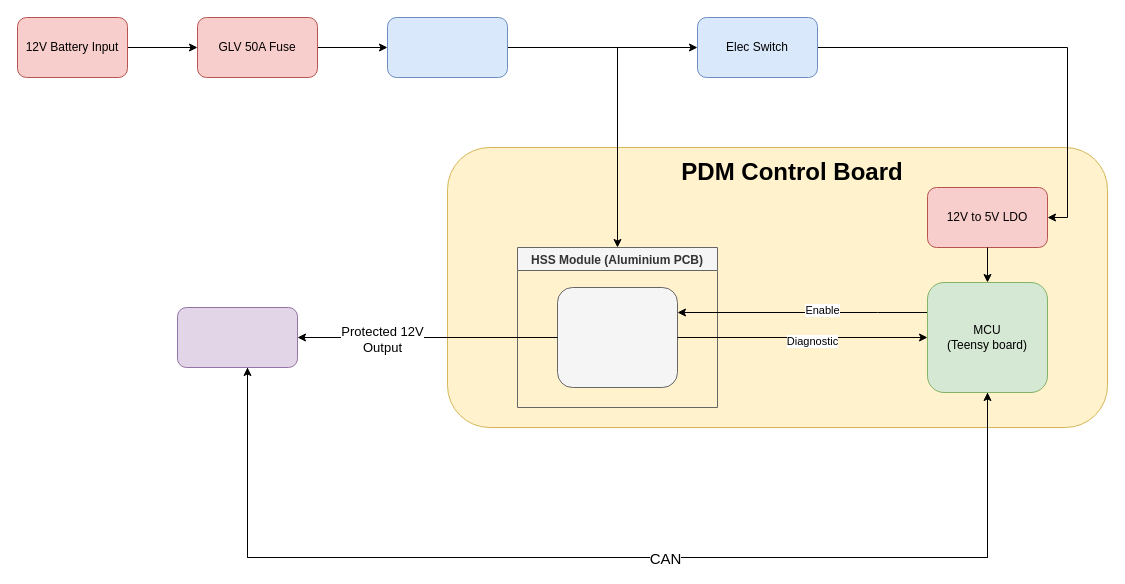
This 1125x584 diagram has some shape labels left out. The shapes that lost their labels are listed below. From the top down, each one's centre as x and y in pixels, then its label:
[447,47]: GLVMS
[237,337]: ECU
[617,337]: High Side Switch (HSS)
